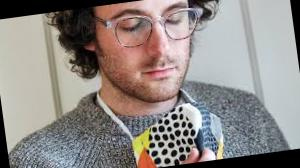mask_weared_incorrect: (99, 1, 198, 136)
